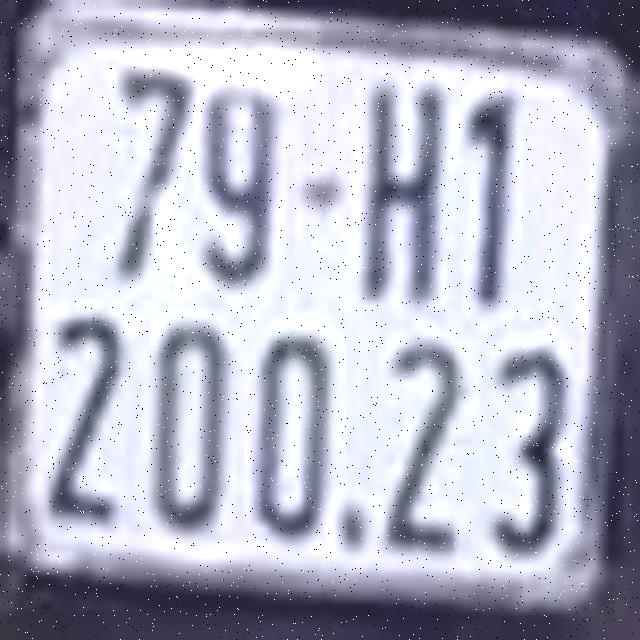0: (150, 317, 227, 531), (254, 331, 330, 538)
1: (463, 88, 517, 306)
2: (384, 334, 460, 554), (48, 309, 123, 525)
3: (490, 340, 566, 556)
7: (110, 63, 192, 282)
9: (200, 74, 276, 287)
H: (363, 78, 446, 307)
